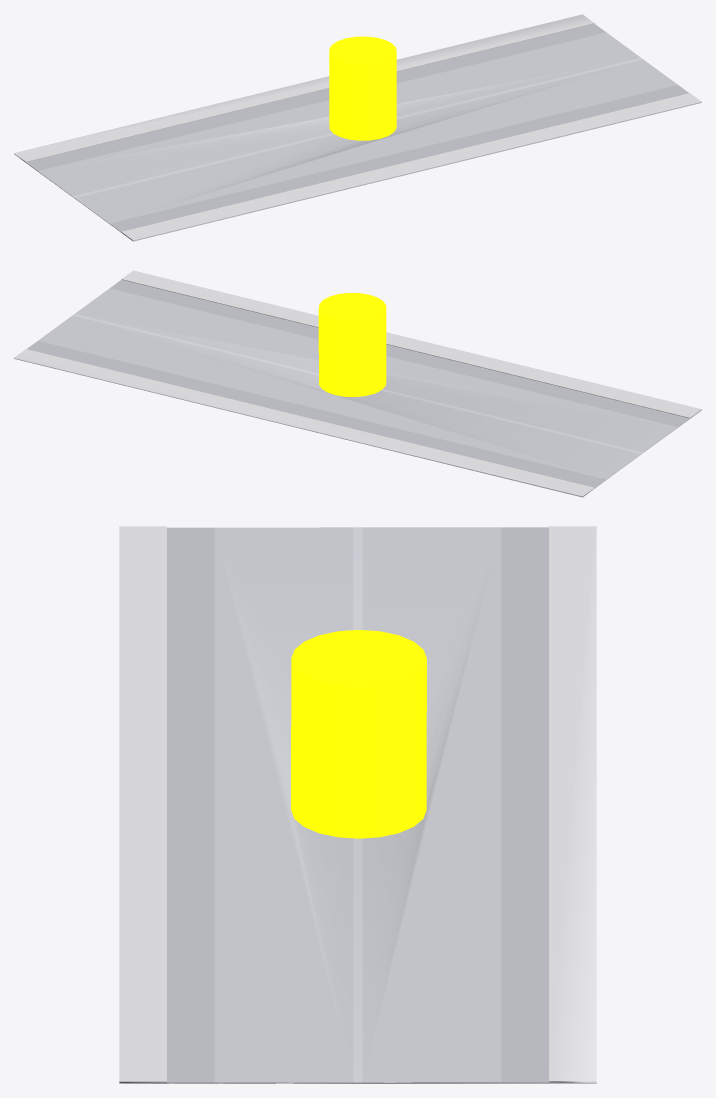
File: cutted.fbx
3 renders of one model, top to bottom at view 1: azimuth 30°, elevation 25°; view 2: azimuth 150°, elevation 25°; view 3: azimuth 270°, elevation 25°, orthographic. The views are drawn at different scales.
Visible parts, largest first — view 1: manhole_street_round2_LARGER, Cylinder_measurer; view 2: manhole_street_round2_LARGER, Cylinder_measurer; view 3: manhole_street_round2_LARGER, Cylinder_measurer.
Boxes of the visible parts, x1=… form: manhole_street_round2_LARGER: x1=14, y1=14, x2=701, y2=241; Cylinder_measurer: x1=329, y1=36, x2=396, y2=140; manhole_street_round2_LARGER: x1=14, y1=270, x2=701, y2=497; Cylinder_measurer: x1=318, y1=293, x2=386, y2=396; manhole_street_round2_LARGER: x1=119, y1=526, x2=596, y2=1083; Cylinder_measurer: x1=291, y1=630, x2=426, y2=838.
Bounding box in the file's own units: 1094 × 200 × 398.
